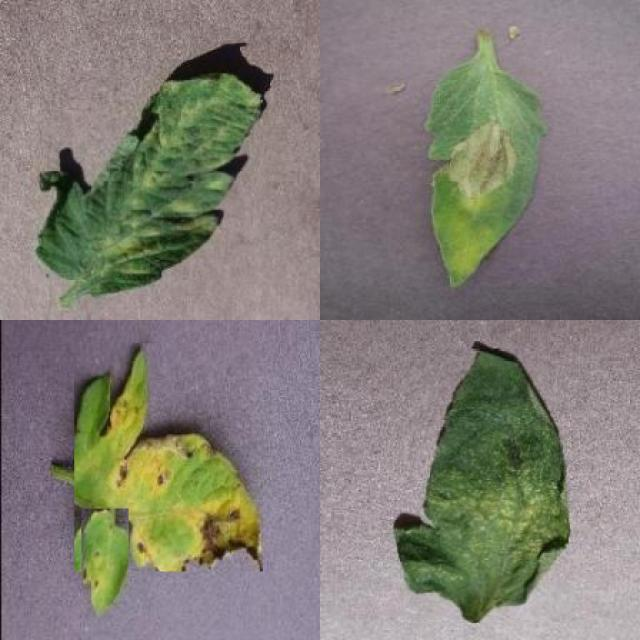Late Blight: (423, 62, 551, 292)
Leaf Mold: (35, 74, 264, 296)
Septoria: (75, 343, 262, 571), (82, 508, 128, 618)
Spider Mites: (397, 349, 569, 624)
